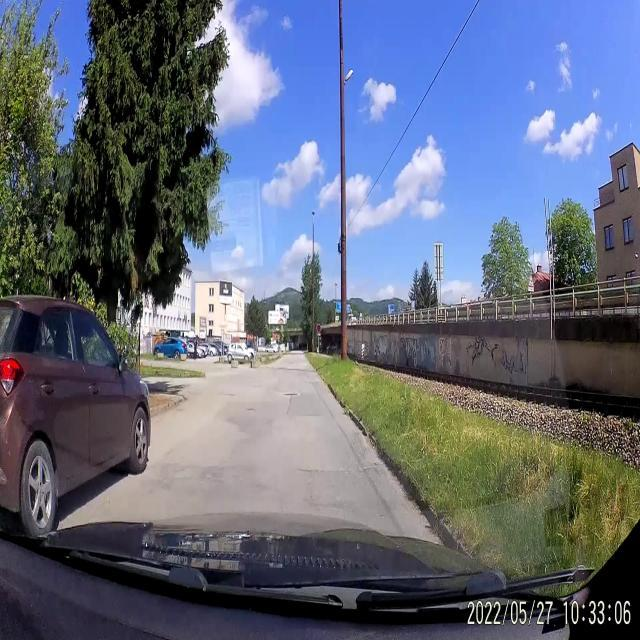Manhole: (284, 390, 300, 400)
Pothole: (246, 406, 256, 416)
